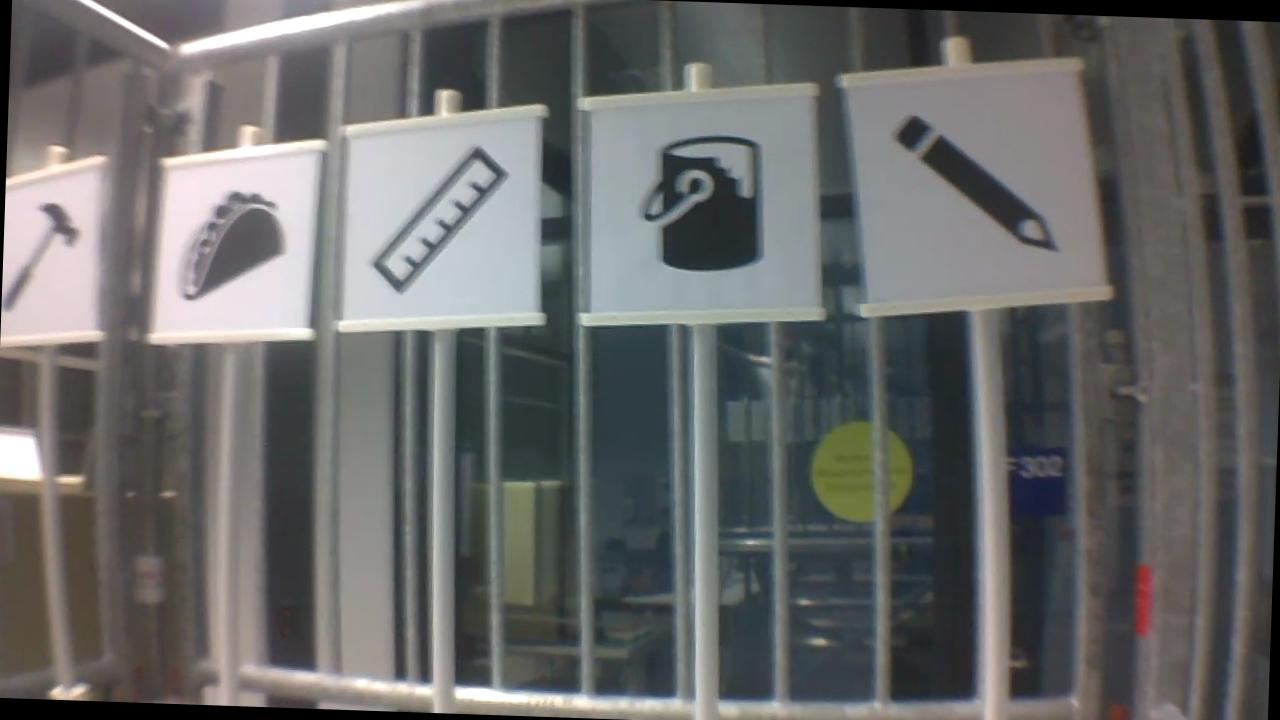bucket: (631, 126, 769, 276)
hammer: (2, 196, 89, 319)
pencil: (880, 108, 1071, 263)
ruler: (362, 134, 515, 303)
taco: (169, 180, 292, 308)
